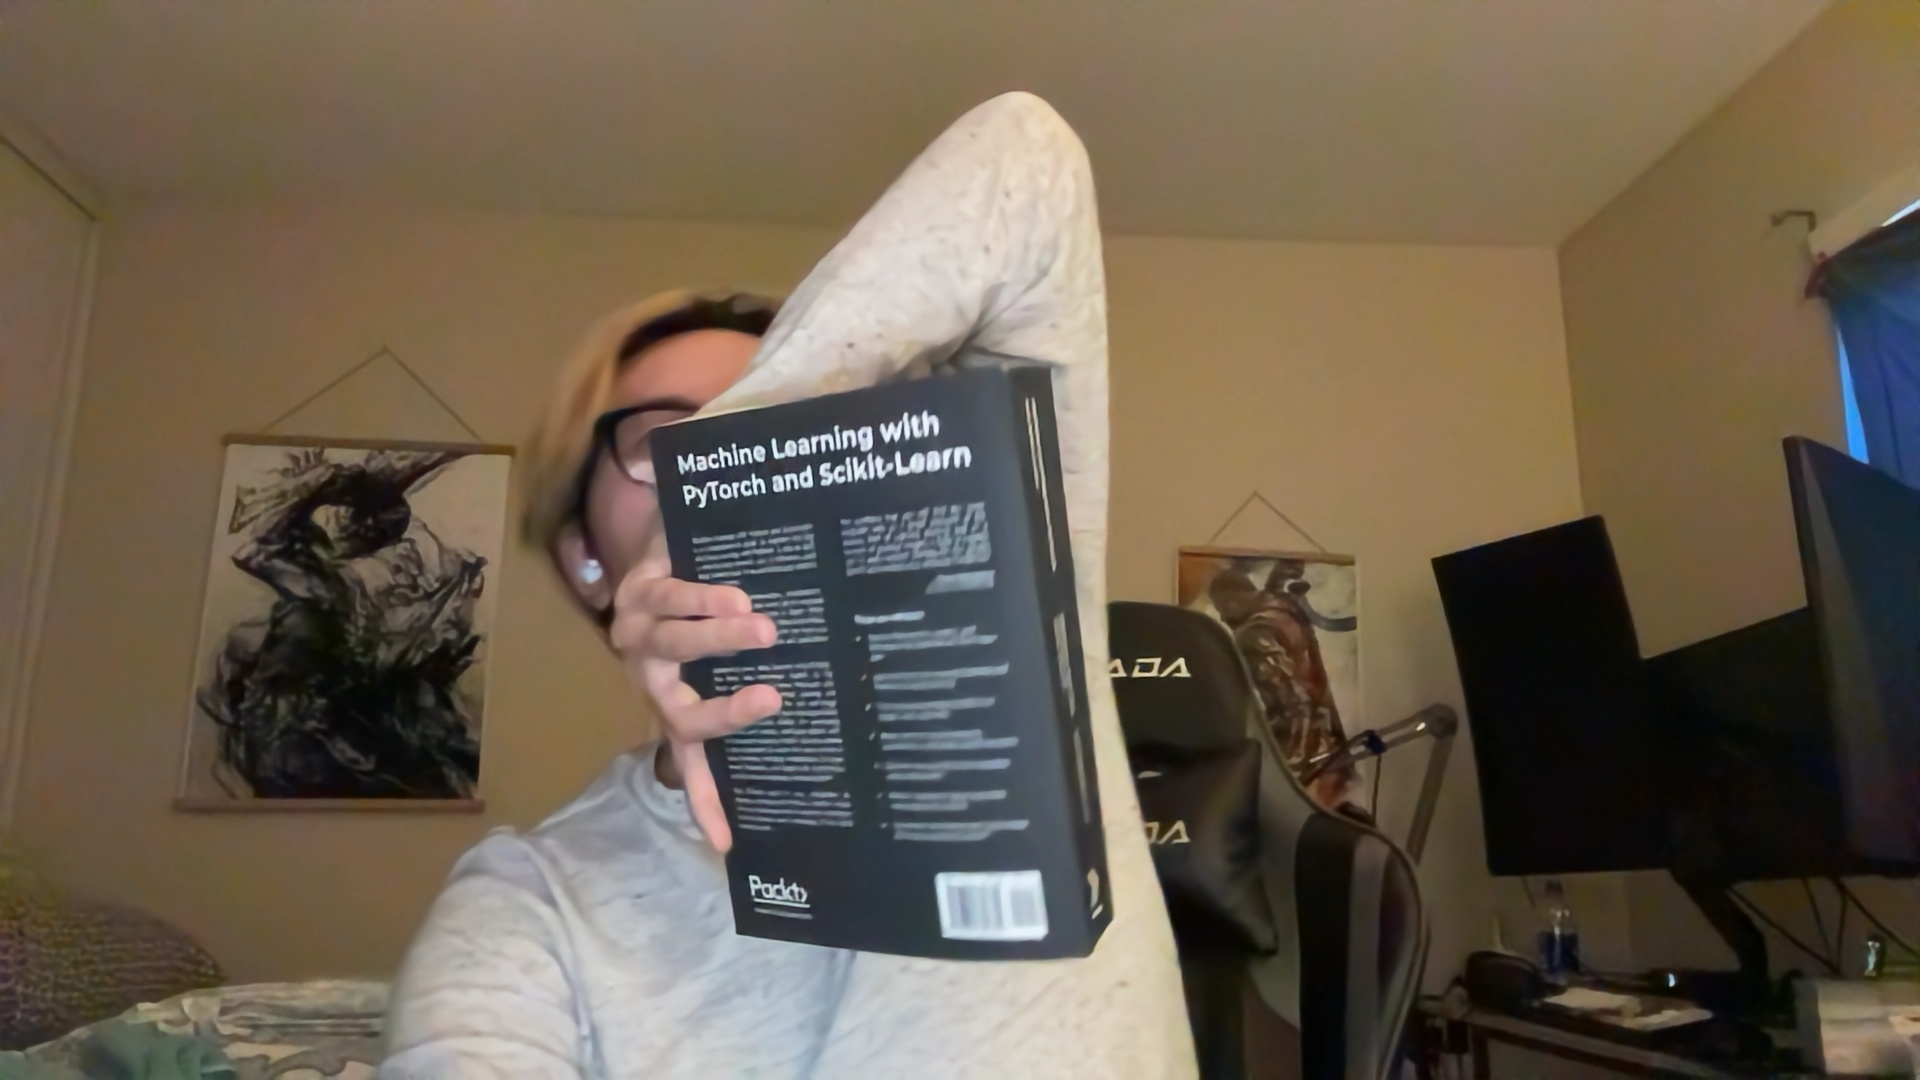book: (640, 356, 1121, 967)
